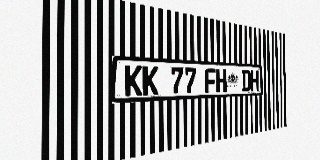7: (170, 67, 184, 94), (184, 67, 197, 94)
D: (242, 70, 250, 91)
F: (205, 68, 216, 93)
H: (216, 69, 227, 92), (250, 70, 259, 91)
K: (125, 65, 142, 96), (143, 66, 158, 95)
